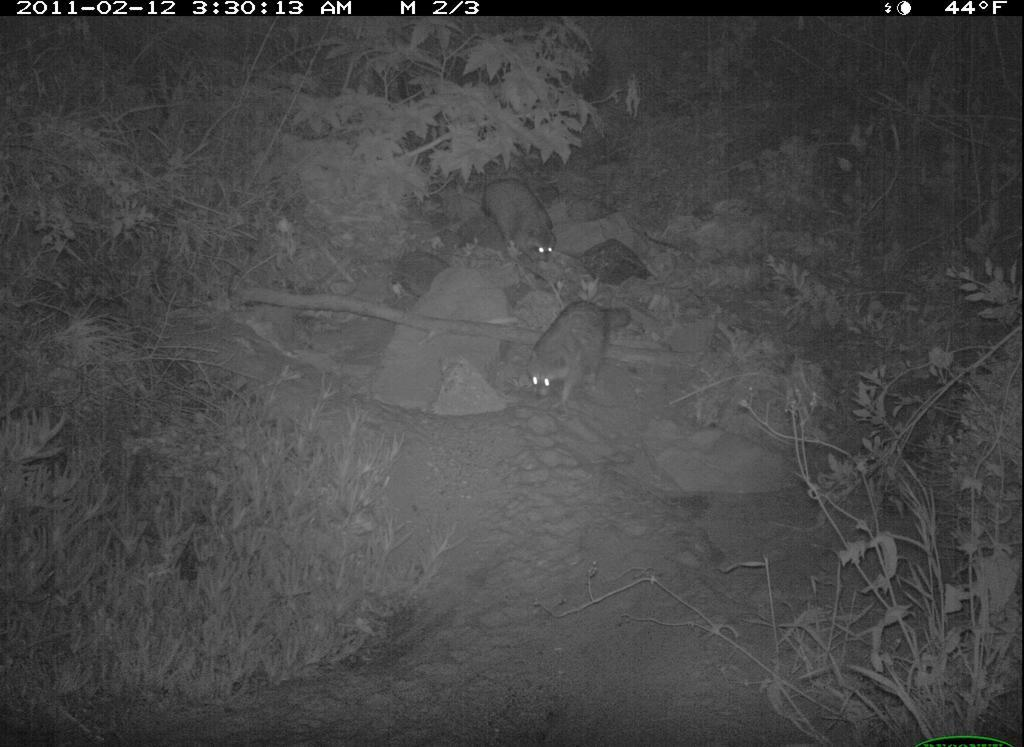raccoon: (528, 297, 637, 424), (469, 166, 573, 271)
